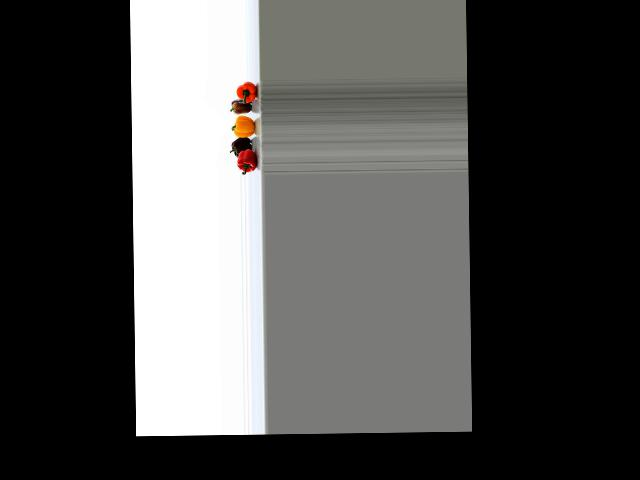bell_pepper: (229, 81, 259, 103)
